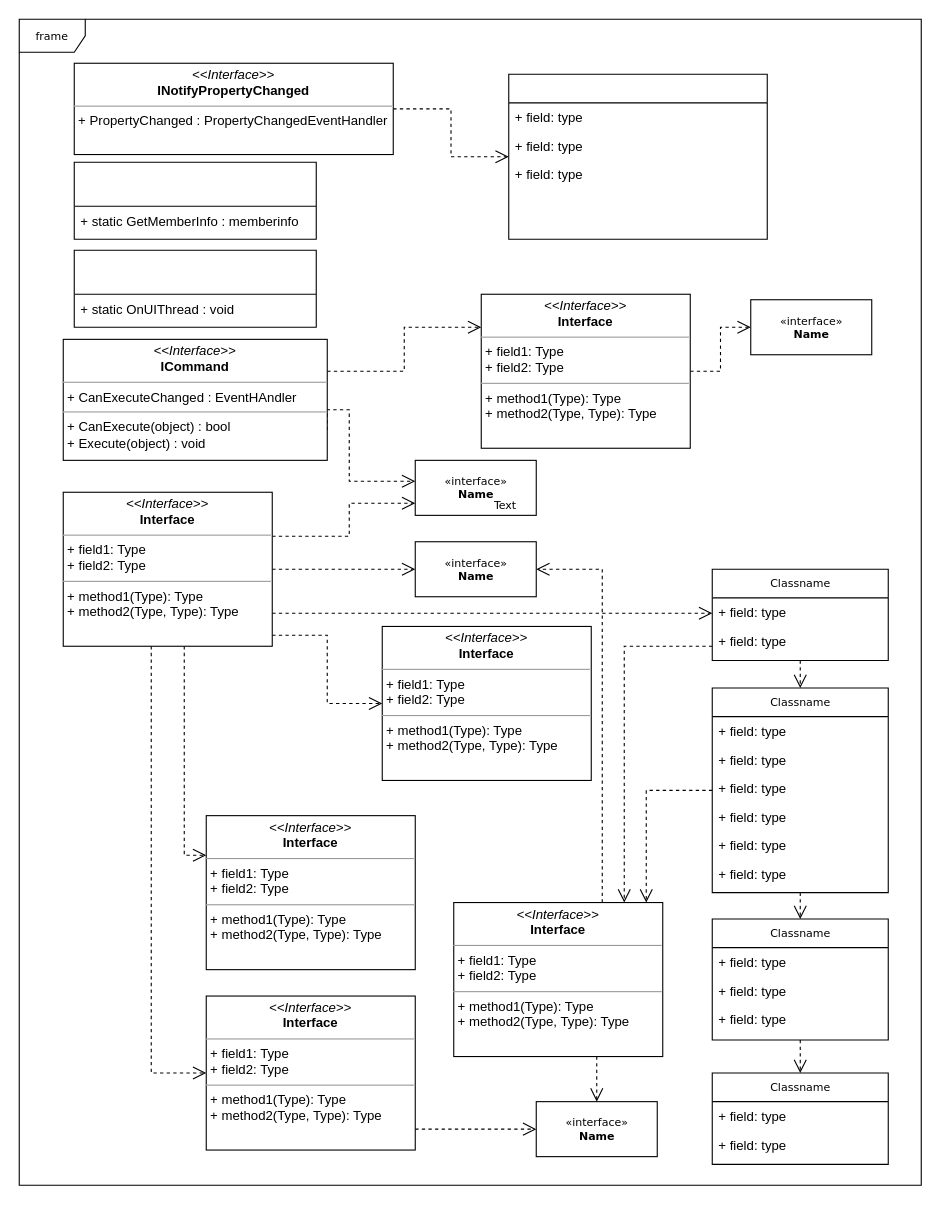
The diagram is 941 pixels wide and 1205 high, and some of its shapes have lost their labels. The box of each missing label's shape, as (x1, y1, x2, y2) in pixels:
<<ExtentionClass>> Action: (73, 249, 316, 327)
<<ExtentionClass>> Expression: (73, 161, 316, 239)
NotiFunction: (508, 73, 767, 239)
